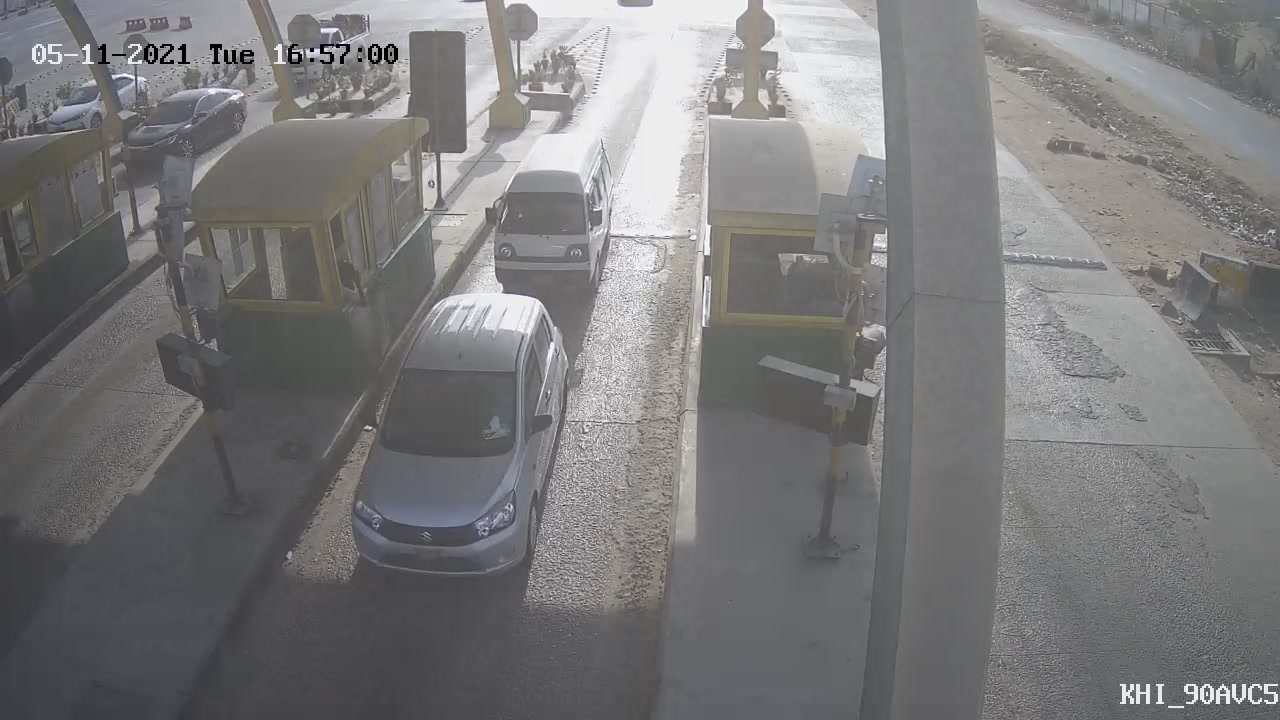F1: (330, 273, 591, 604), (464, 117, 630, 312)
